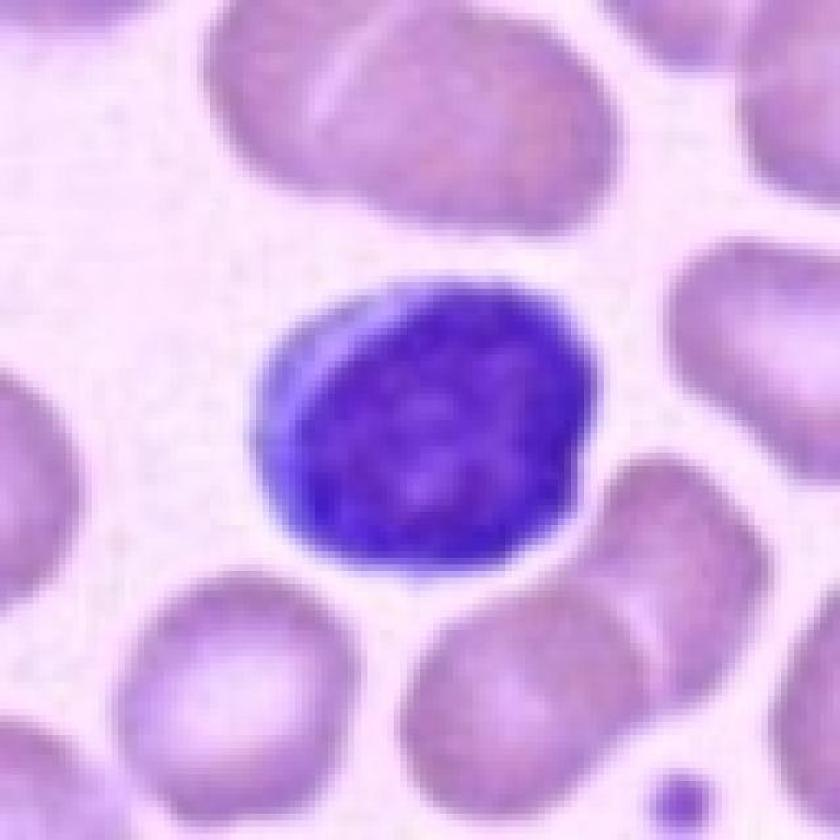lymphocyte: (241, 269, 614, 581)
